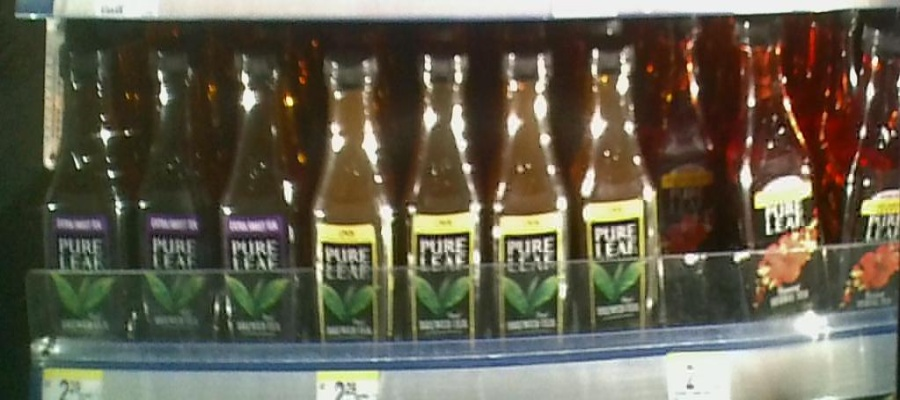bottle: (304, 47, 401, 358), (730, 14, 826, 310), (42, 46, 134, 349), (487, 42, 574, 354), (406, 45, 487, 357), (576, 35, 658, 339), (220, 47, 301, 352), (136, 45, 216, 352), (842, 18, 900, 325), (662, 21, 721, 260)
